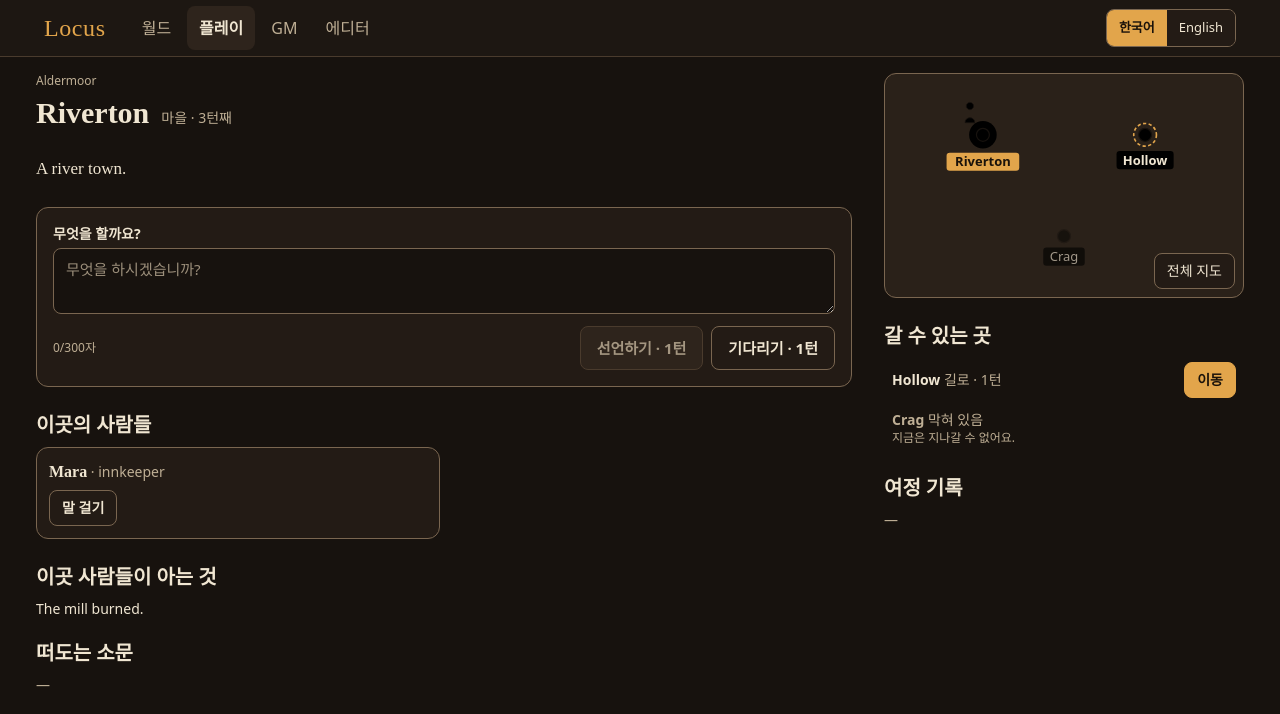
TP-V4-5 and BR-V4-22: one result band › [end talk] closes the talk and its judgment lands in the band
Step 1. Click the button with test id "npc-n1-talk-btn" → coordinates (83, 508), box [49, 490, 117, 526]
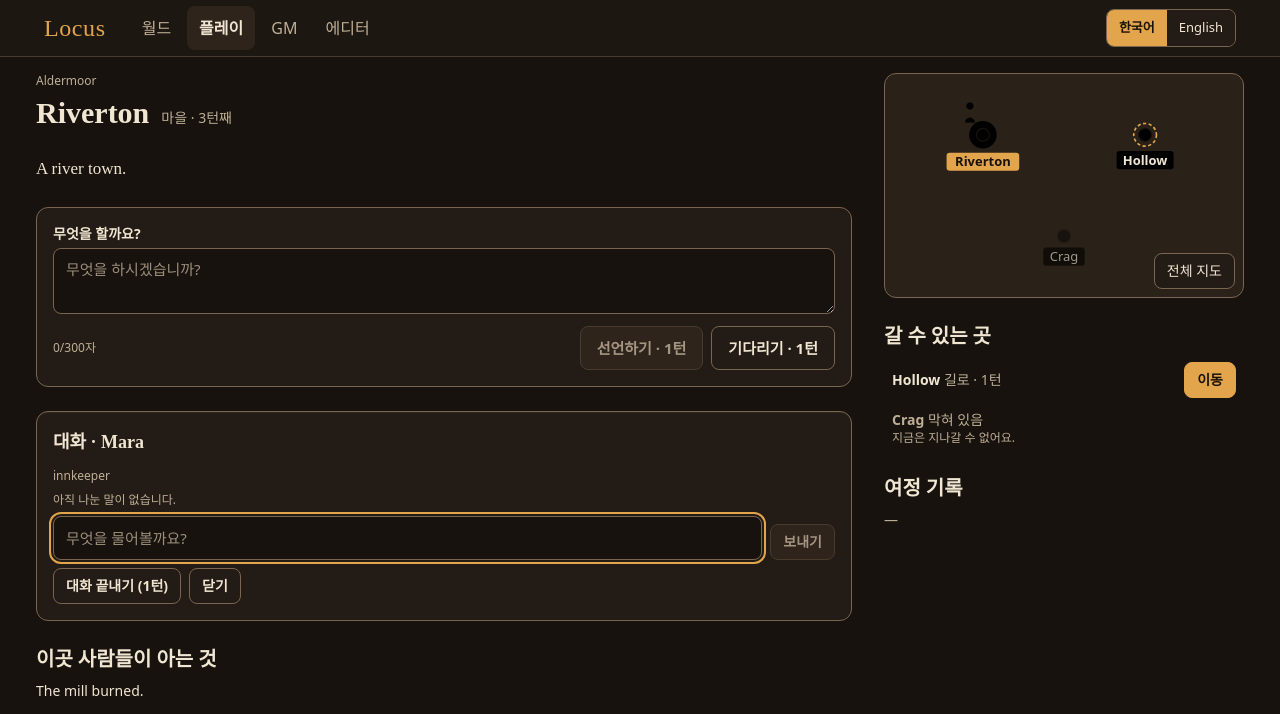
expect the element with test id "dialogue-panel" is shown: met, box [36, 411, 852, 621]
Step 2. Click the button with test id "dialogue-end-btn" → coordinates (117, 586), box [53, 568, 181, 604]
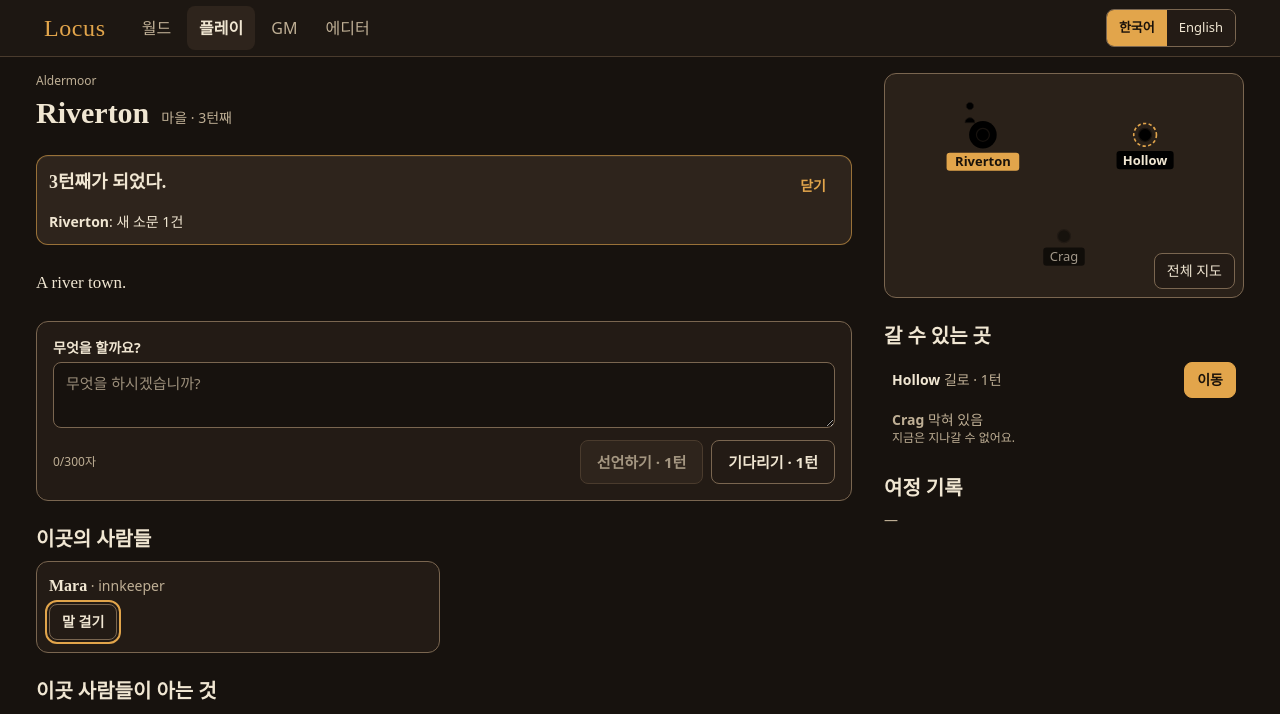
expect the element with test id "dialogue-panel" is gone: met
